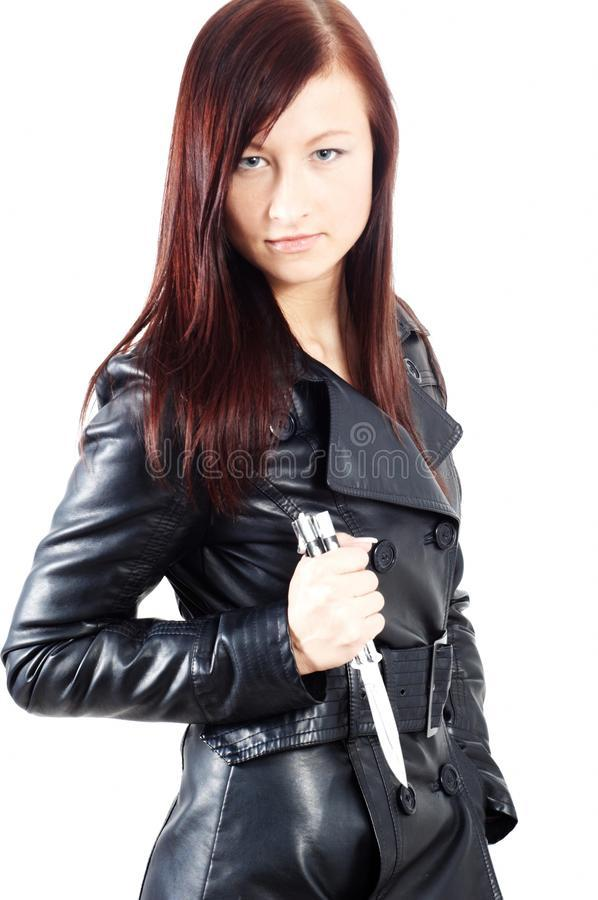criminal: (0, 0, 516, 900)
weapon: (288, 504, 415, 797)
